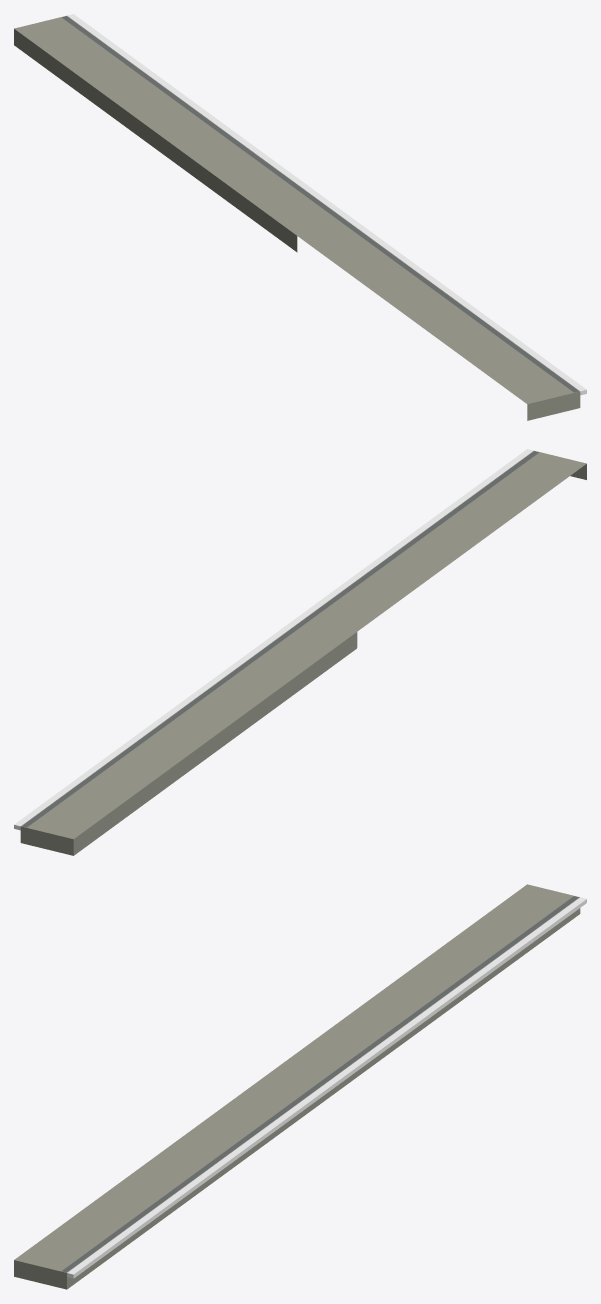
The model's file is SM_Platform.fbx.
3 views of the same model, one above another, from view 1: azimuth 30°, elevation 25°; view 2: azimuth 150°, elevation 25°; view 3: azimuth 330°, elevation 25° (orthographic).
Parts seen in each view (by area): view 1: SM_Platform; view 2: SM_Platform; view 3: SM_Platform.
Boxes of the visible parts, x1=… form: SM_Platform: x1=14, y1=14, x2=586, y2=420; SM_Platform: x1=14, y1=449, x2=586, y2=855; SM_Platform: x1=14, y1=884, x2=586, y2=1289.
Size of the model in its own units: 450 by 120 by 6700.
1 material, 1 textured.
